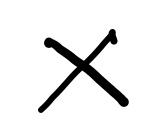mult: (38, 29, 129, 113)
